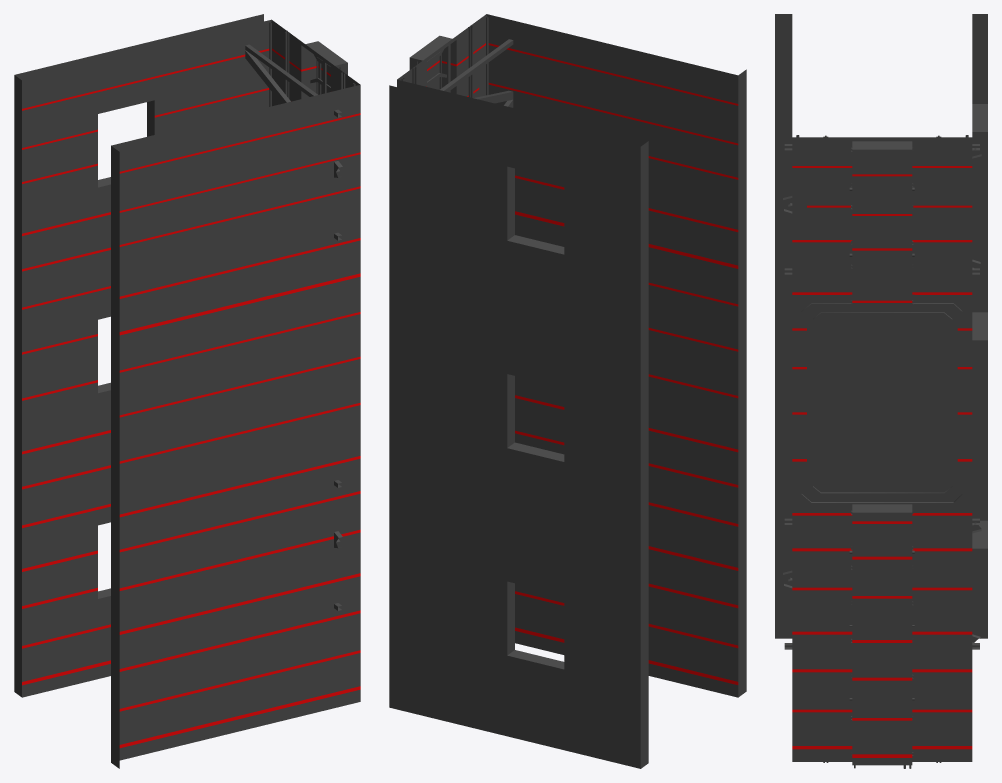
The model's file is elevatorscene_walls_3ds.fbx.
3 renders of one model, left to right at view 1: azimuth 30°, elevation 25°; view 2: azimuth 150°, elevation 25°; view 3: azimuth 270°, elevation 25°, orthographic.
Visible parts, largest first — view 1: ElevatorScene_walls; view 2: ElevatorScene_walls; view 3: ElevatorScene_walls.
Boxes of the visible parts, left/top/right/bottom form: ElevatorScene_walls: left=14, top=14, right=360, bottom=768; ElevatorScene_walls: left=389, top=14, right=746, bottom=768; ElevatorScene_walls: left=775, top=14, right=987, bottom=768.
Size of the model in its own units: 13.92 by 30.88 by 9.51.
